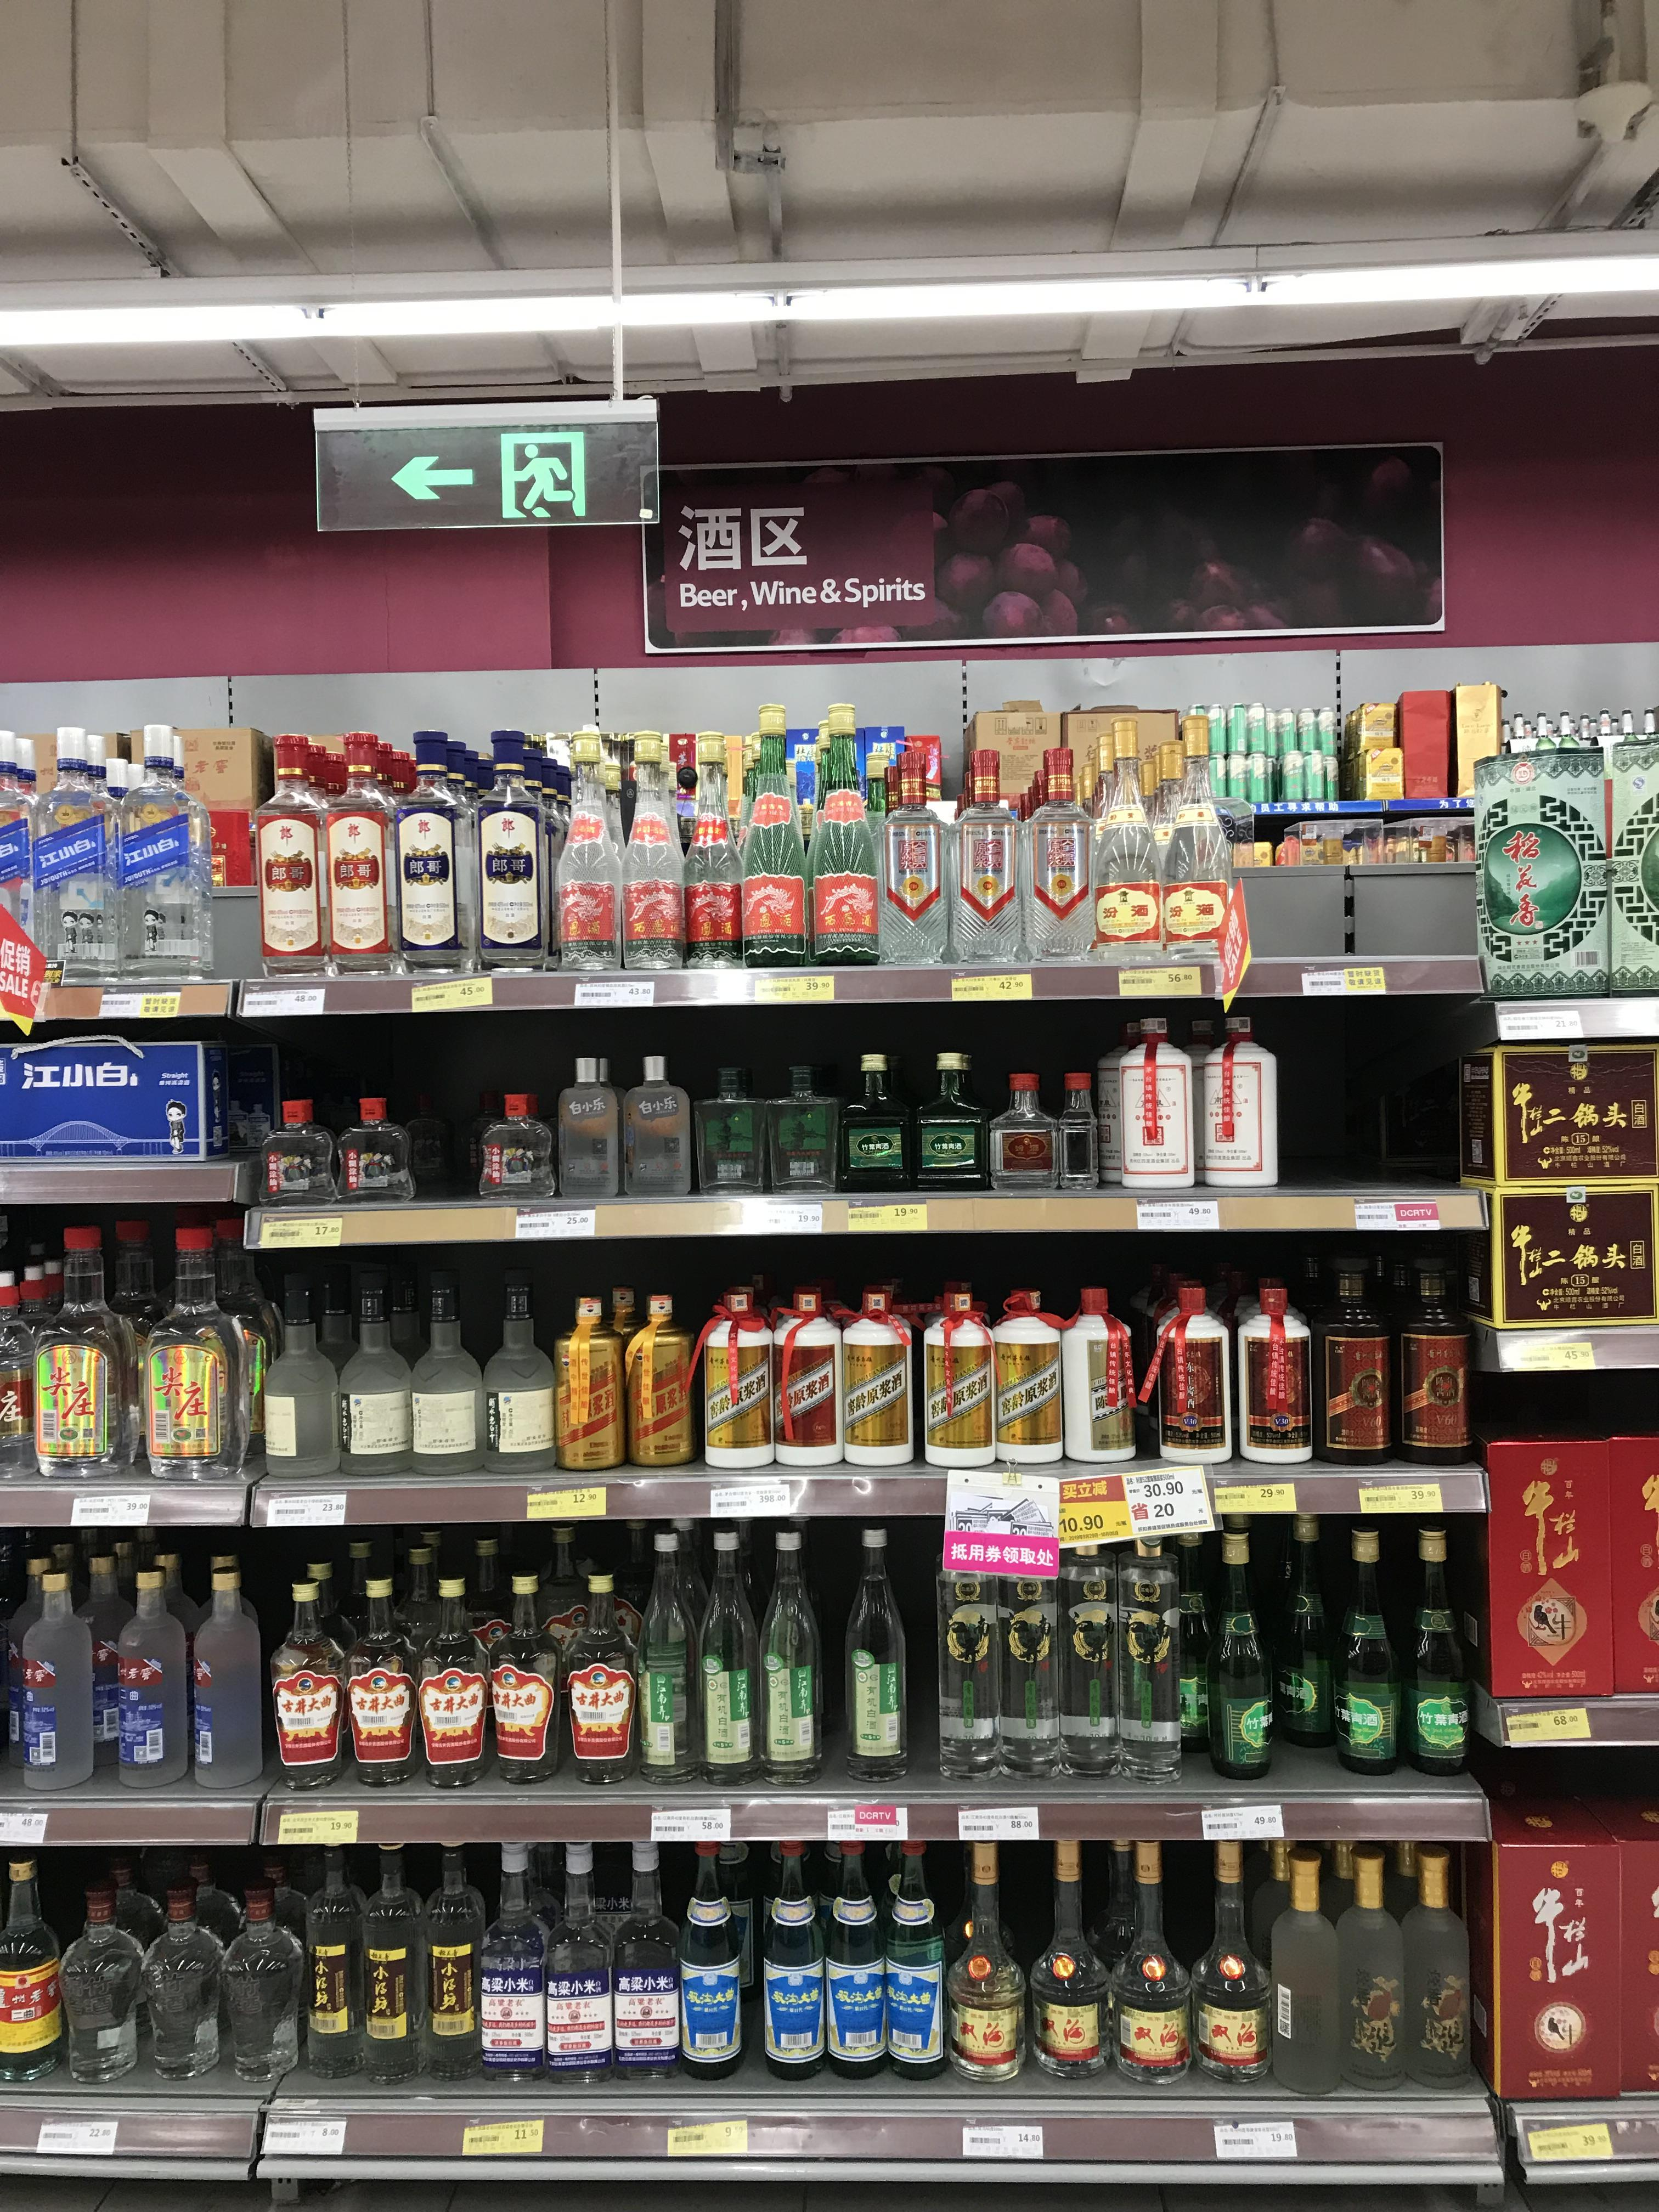bottle: (143, 1228, 230, 1484), (33, 1230, 120, 1480), (1110, 1832, 1194, 2092), (1192, 1831, 1272, 2092), (173, 1230, 256, 1479), (1263, 1848, 1347, 2094), (1100, 1529, 1180, 1785), (1028, 1832, 1108, 2087), (945, 1829, 1023, 2088), (7, 1568, 98, 1787), (469, 732, 551, 968), (77, 1224, 153, 1475), (1328, 1519, 1403, 1775), (54, 1886, 148, 2088), (634, 1533, 708, 1789), (322, 733, 401, 972), (836, 1526, 910, 1780), (1199, 1524, 1272, 1778), (939, 1536, 1014, 1780), (1399, 1522, 1471, 1777), (390, 740, 469, 972), (669, 1831, 741, 2083), (188, 1566, 270, 1785), (110, 1566, 192, 1785), (416, 1838, 488, 2088), (254, 740, 331, 974), (1035, 1541, 1108, 1785), (606, 1834, 678, 2083), (1330, 1855, 1406, 2087), (1396, 1848, 1473, 2080), (82, 1561, 162, 1782), (753, 1529, 823, 1784), (300, 1839, 373, 2080), (697, 1533, 765, 1789), (479, 1838, 549, 2087), (540, 1839, 610, 2087), (138, 1895, 230, 2081), (760, 1832, 828, 2083), (739, 714, 805, 970), (1267, 1505, 1335, 1752), (809, 719, 877, 965), (267, 1581, 349, 1785), (249, 1259, 328, 1472), (413, 1573, 490, 1789), (342, 1576, 420, 1787), (972, 1548, 1042, 1784), (356, 1839, 422, 2087), (823, 1829, 887, 2081), (218, 1895, 303, 2085), (565, 1566, 638, 1785), (0, 1848, 66, 2088), (1394, 1266, 1474, 1463), (884, 1838, 946, 2087), (554, 735, 620, 970), (336, 1271, 413, 1474), (1161, 738, 1230, 960), (1091, 725, 1155, 961), (1314, 1266, 1391, 1465), (404, 1275, 481, 1472), (620, 737, 685, 970), (875, 752, 946, 961), (486, 1575, 556, 1784), (1154, 1289, 1236, 1458), (481, 1280, 554, 1468), (681, 738, 741, 968), (1033, 740, 1094, 963), (983, 1301, 1066, 1458), (701, 1291, 775, 1465), (835, 1303, 915, 1465), (1239, 1287, 1312, 1463), (951, 766, 1016, 961), (1058, 1298, 1133, 1465), (626, 1303, 701, 1467), (772, 1298, 847, 1461), (927, 1299, 1000, 1465), (552, 1306, 622, 1470), (1199, 751, 1253, 951), (831, 1055, 904, 1191), (915, 1057, 981, 1186), (986, 1075, 1058, 1190)
box: (1473, 1801, 1649, 2109), (1453, 1038, 1659, 1186), (1469, 1183, 1659, 1334), (1549, 1421, 1654, 1695), (1056, 1068, 1108, 1191)
jar: (1108, 1019, 1187, 1186), (1204, 1008, 1276, 1188), (554, 1068, 624, 1197), (620, 1073, 690, 1195), (333, 1109, 418, 1209), (260, 1108, 336, 1209), (472, 1104, 552, 1198), (694, 1082, 758, 1191), (772, 1083, 835, 1191)
others: (1462, 1430, 1622, 1709), (1486, 732, 1603, 988), (9, 1021, 193, 1163), (112, 726, 206, 979), (24, 732, 113, 986), (181, 723, 265, 934)
